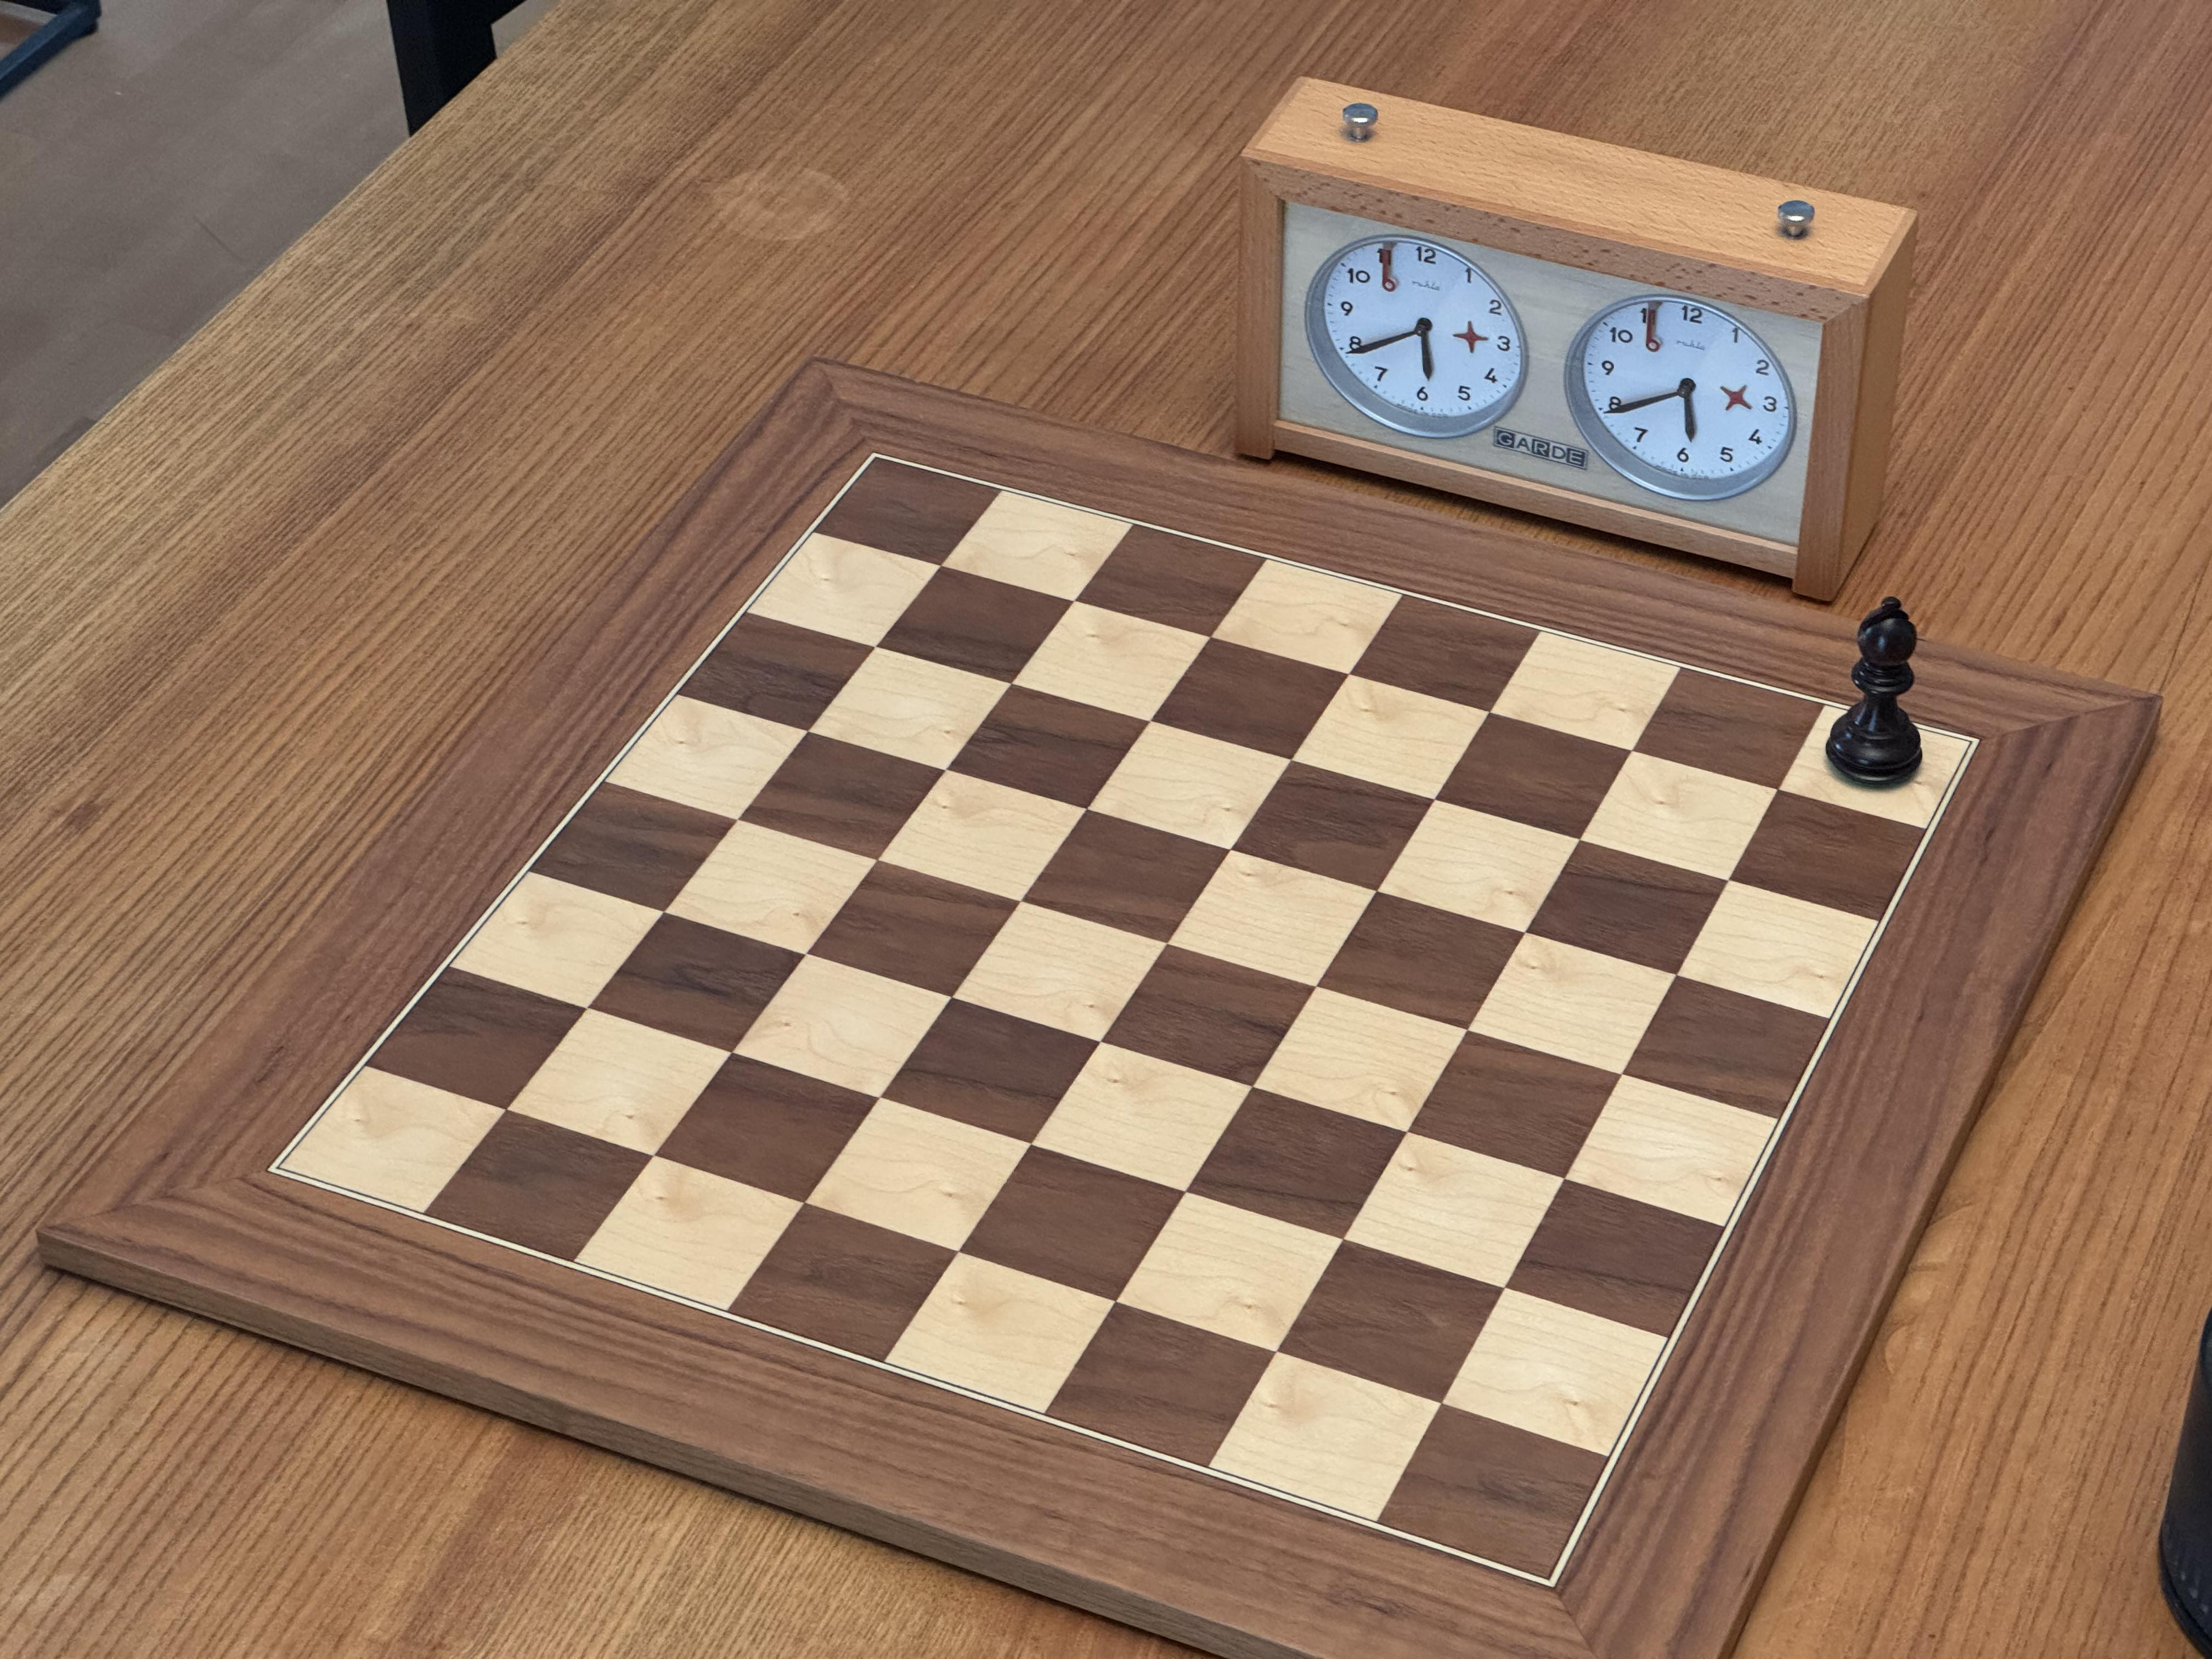Black Bishop: (1820, 592, 1928, 795)
